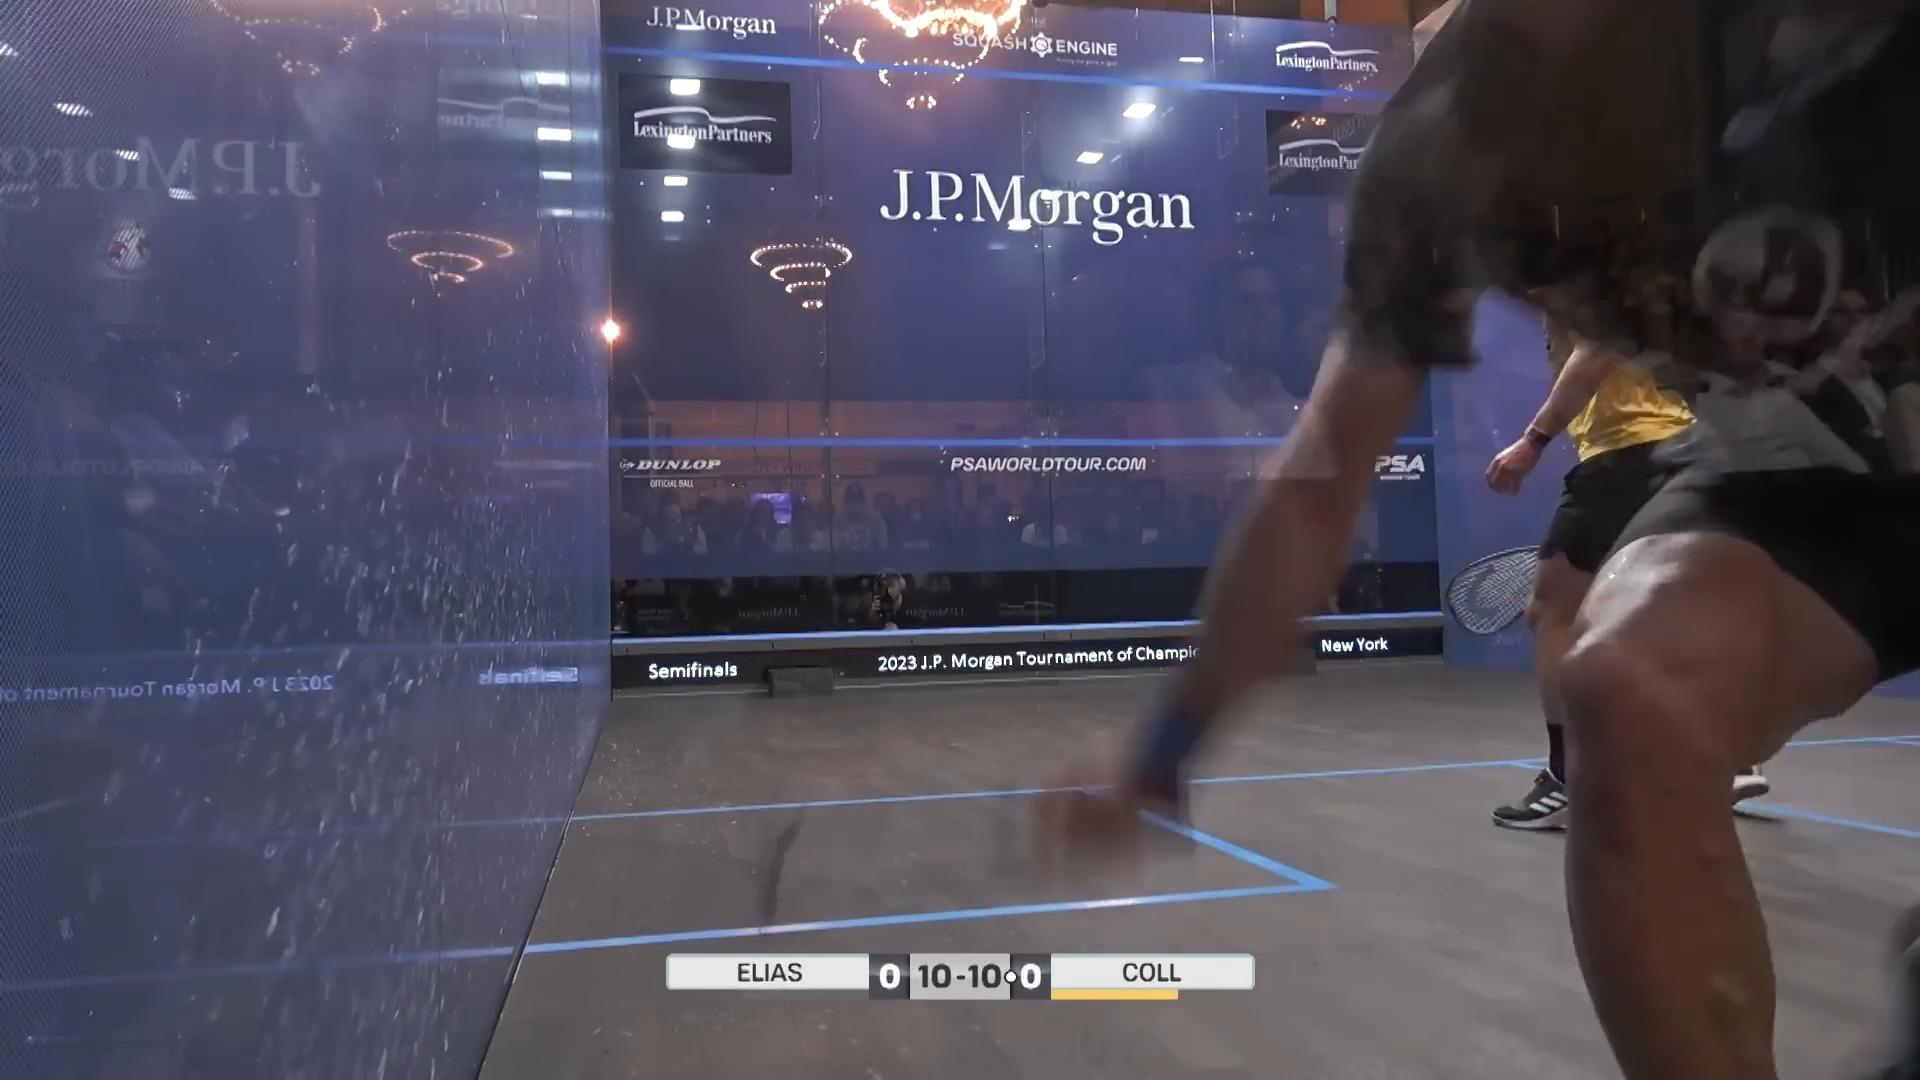Racket: (1433, 539, 1540, 645)
